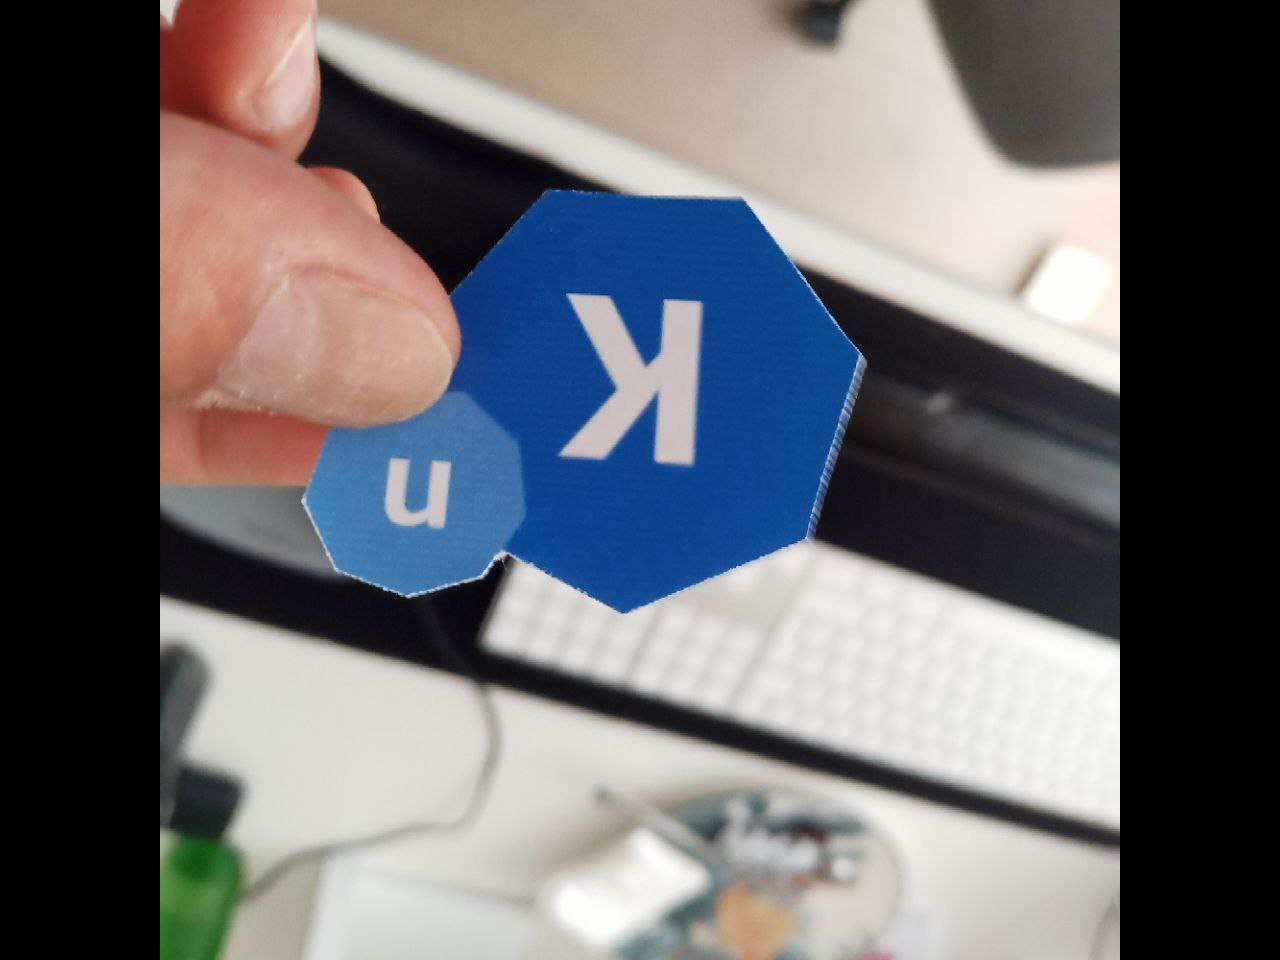knative: (299, 193, 870, 617)
